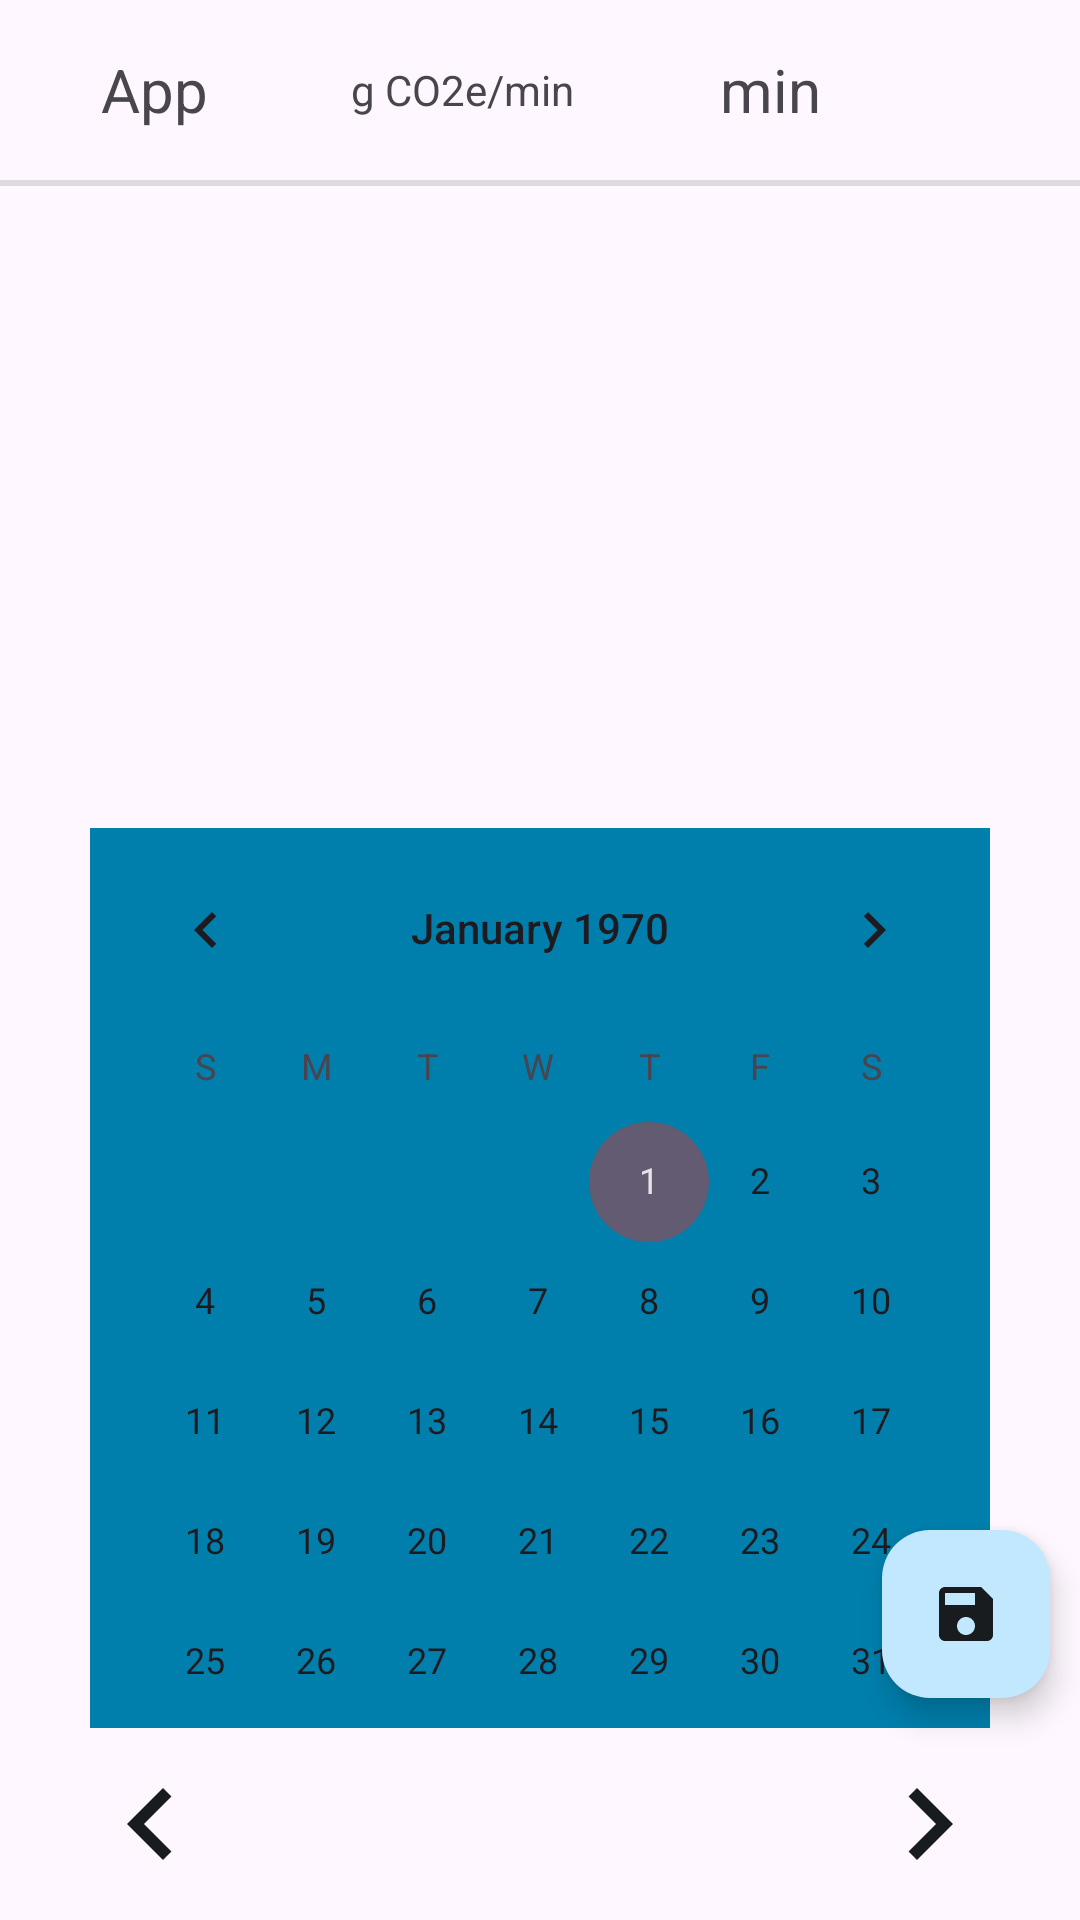

Icons on this 1080px×1920px Android screen, each with the point to tap as (x=x, y=y):
left: (x=149, y=1824)
right: (x=930, y=1824)
save: (x=966, y=1614)
